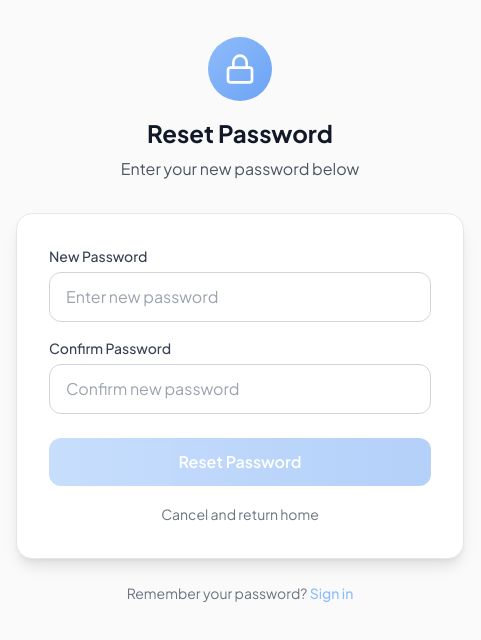
ResetPasswordPage › password form › should show passwords match message
Type "password123" into the password field labelled "New Password". click: {"x": 240, "y": 297}
box: top-left (49, 272), bottom-right (431, 322)
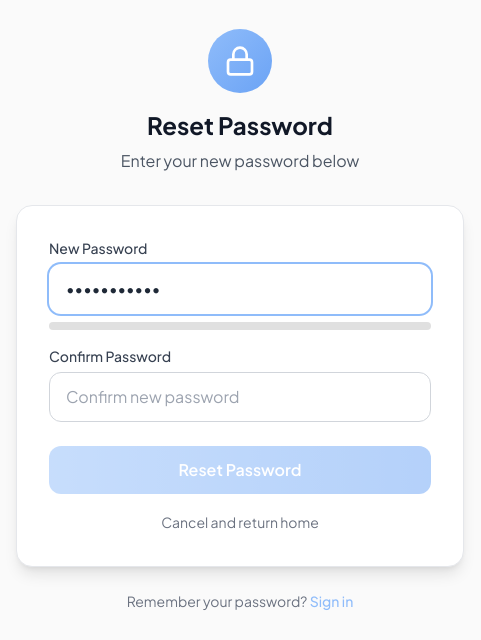
Type "password123" into the password field labelled "Confirm Password". click: {"x": 240, "y": 397}
box: top-left (49, 372), bottom-right (431, 422)
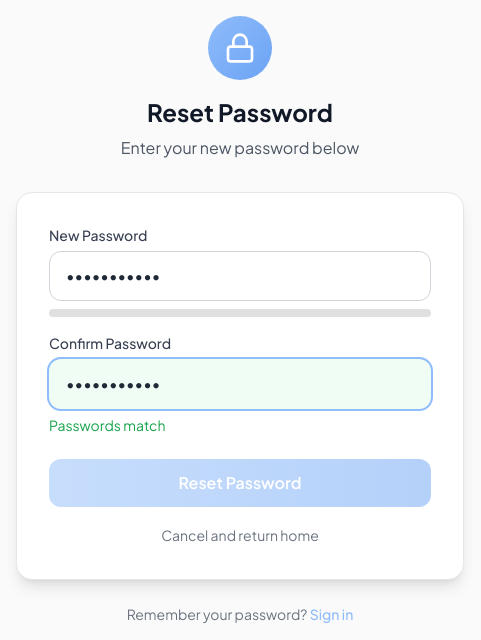
expect the text "Passwords match" is shown: met, box top-left (49, 416), bottom-right (166, 434)
